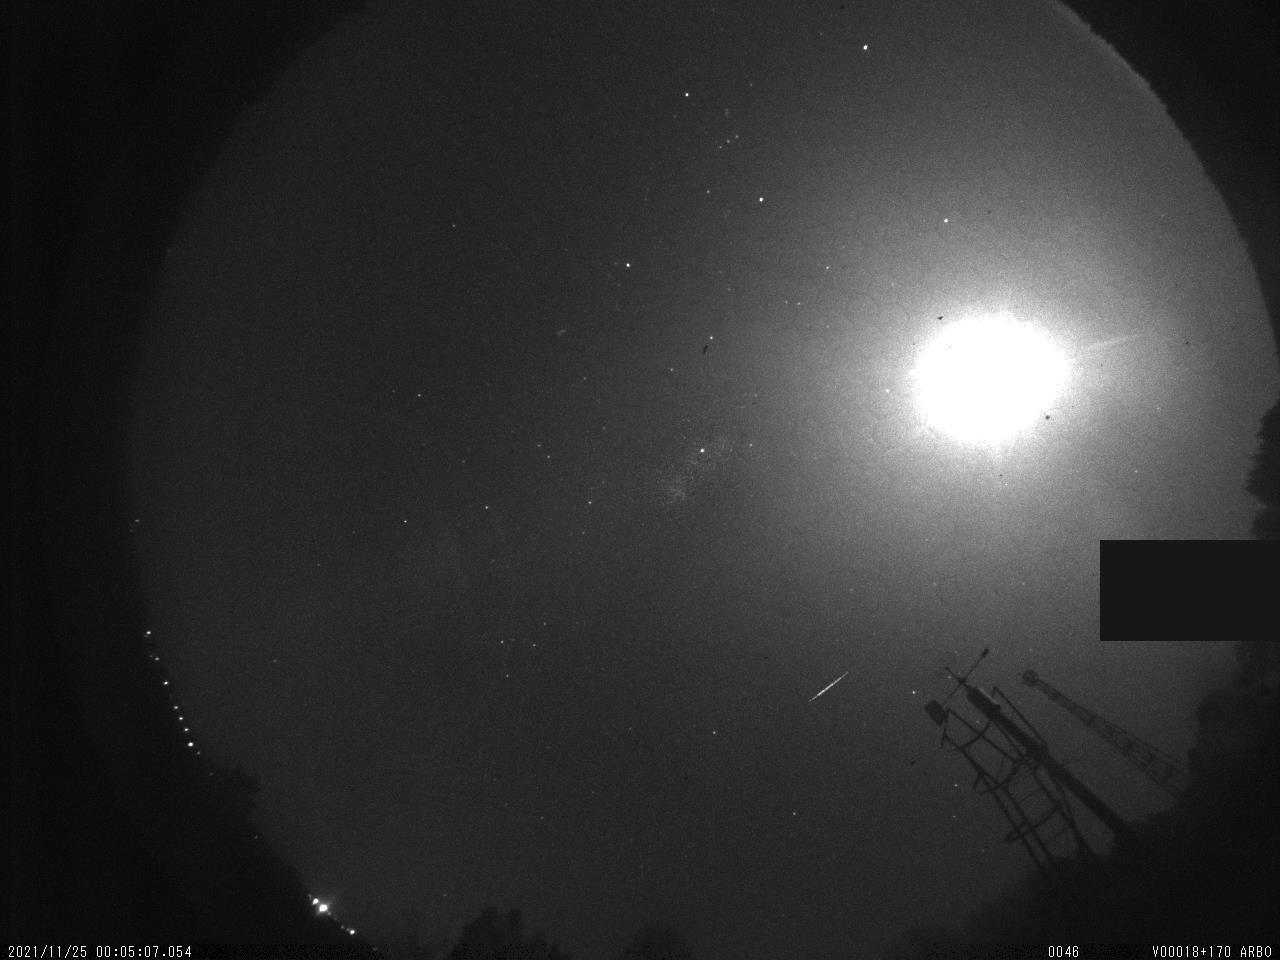meteor: (803, 653, 866, 720)
